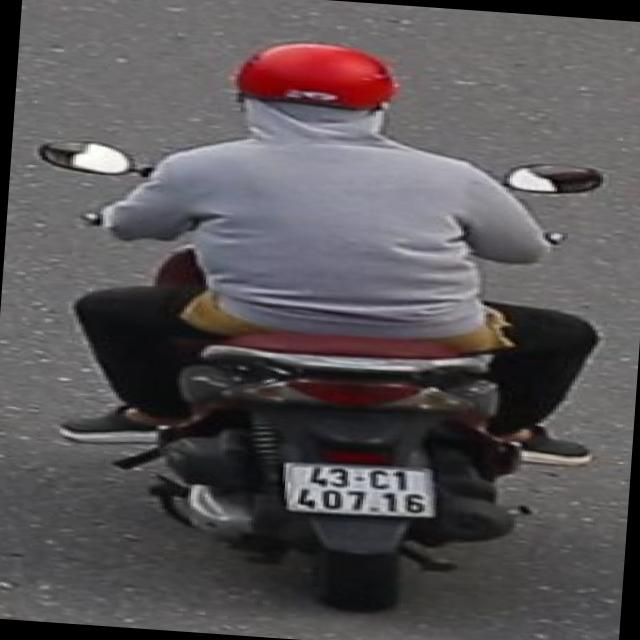LP: (277, 453, 441, 525)
helmet: (224, 32, 403, 146)
